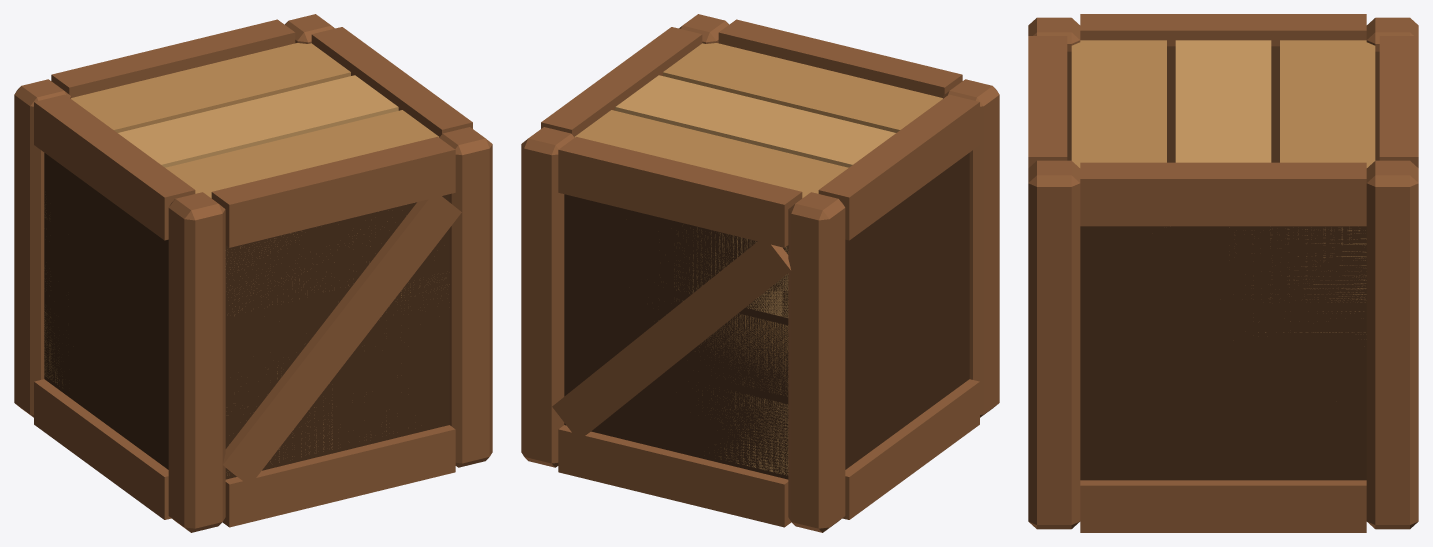
The model's file is crate.glb.
3 renders of one model, left to right at view 1: azimuth 30°, elevation 25°; view 2: azimuth 150°, elevation 25°; view 3: azimuth 270°, elevation 25°, orthographic. The views are drawn at different scales.
Parts seen in each view (by area): view 1: crate; view 2: crate; view 3: crate.
Part boxes in pixels (left/top/right/bottom): crate: left=14, top=14, right=492, bottom=532; crate: left=521, top=14, right=999, bottom=532; crate: left=1028, top=14, right=1418, bottom=532.
Size of the model in its own units: 0.9 by 0.9 by 0.9.
1 material, 1 textured.
